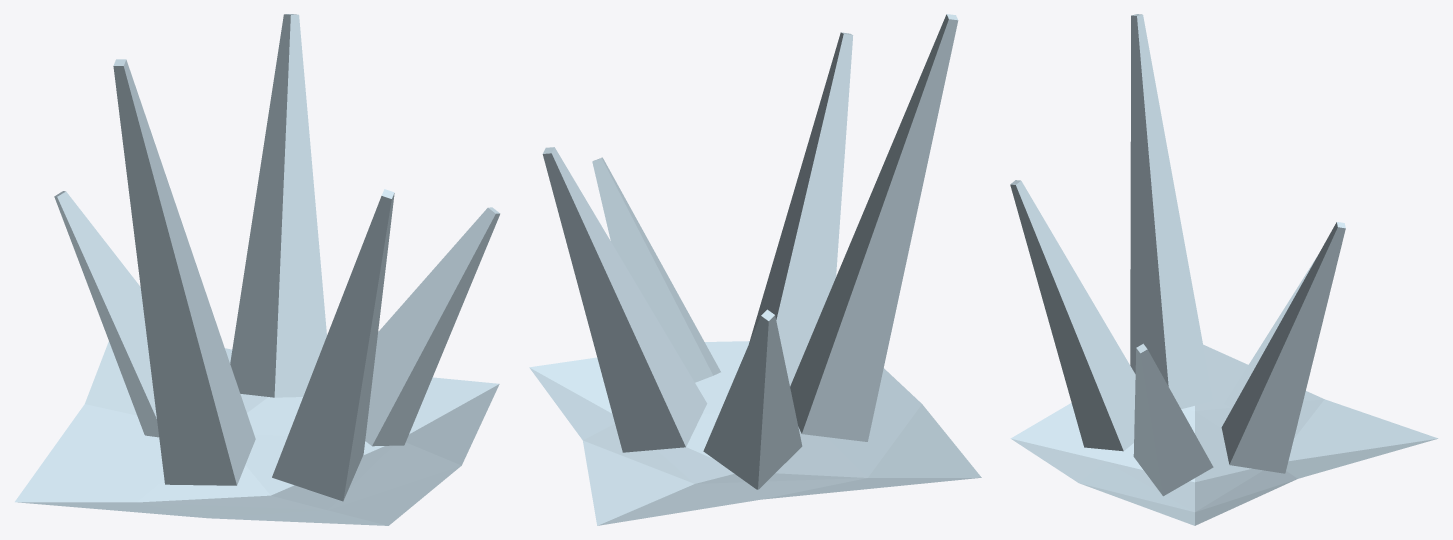
The model's file is ice_shard_v20.glb.
3 views of the same model, side by side, from view 1: azimuth 30°, elevation 25°; view 2: azimuth 150°, elevation 25°; view 3: azimuth 270°, elevation 25° (orthographic). The views are drawn at different scales.
Visible parts, largest first — view 1: lod0; view 2: lod0; view 3: lod0.
Boxes of the visible parts, x1,y1,x2,y2 form: lod0: [15, 14, 500, 525]; lod0: [529, 14, 981, 525]; lod0: [1010, 14, 1438, 525].
Size of what is drawn, in the model's own units: 0.7337 by 0.7334 by 0.7177.
